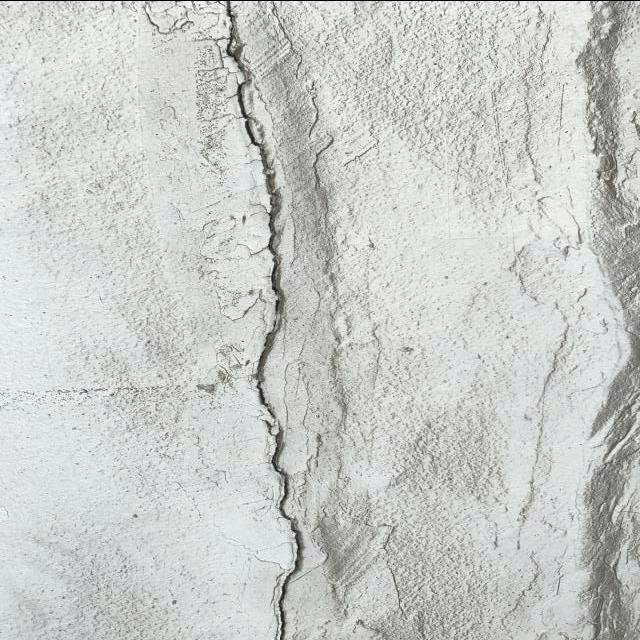SurfaceCrack: (182, 0, 400, 640), (492, 3, 640, 640)
